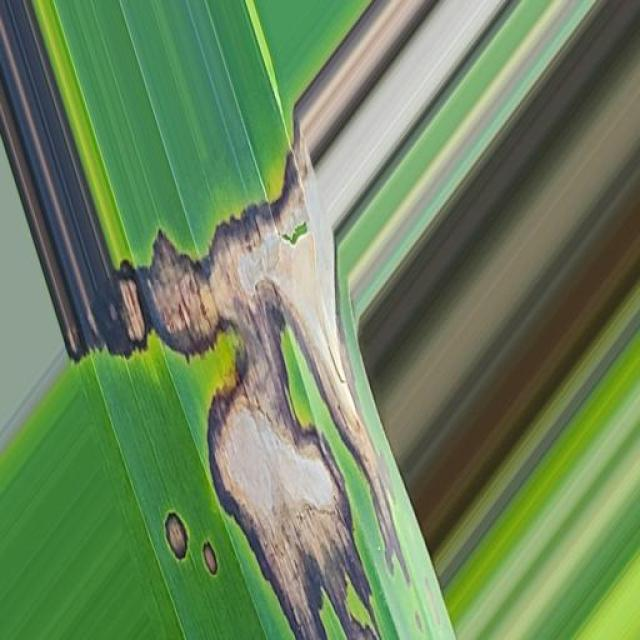Early_rust: (45, 164, 446, 640)
